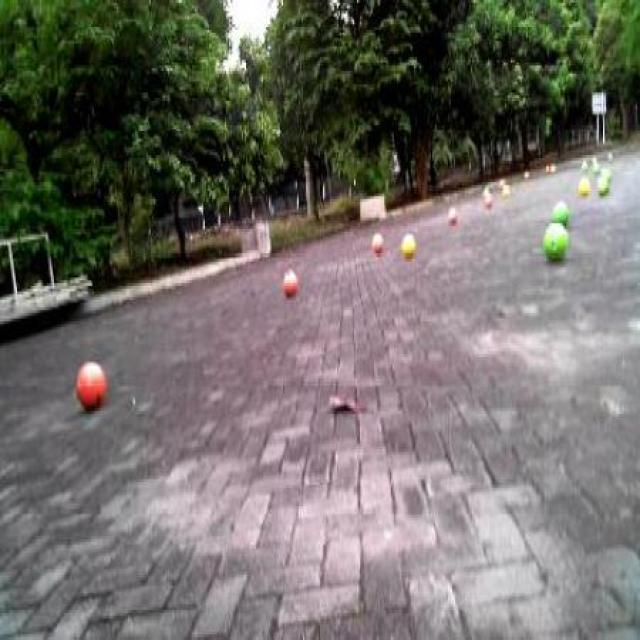buoy: (72, 353, 110, 418), (539, 217, 572, 271), (549, 195, 572, 227), (280, 264, 300, 299), (398, 228, 417, 260), (369, 228, 385, 260)
